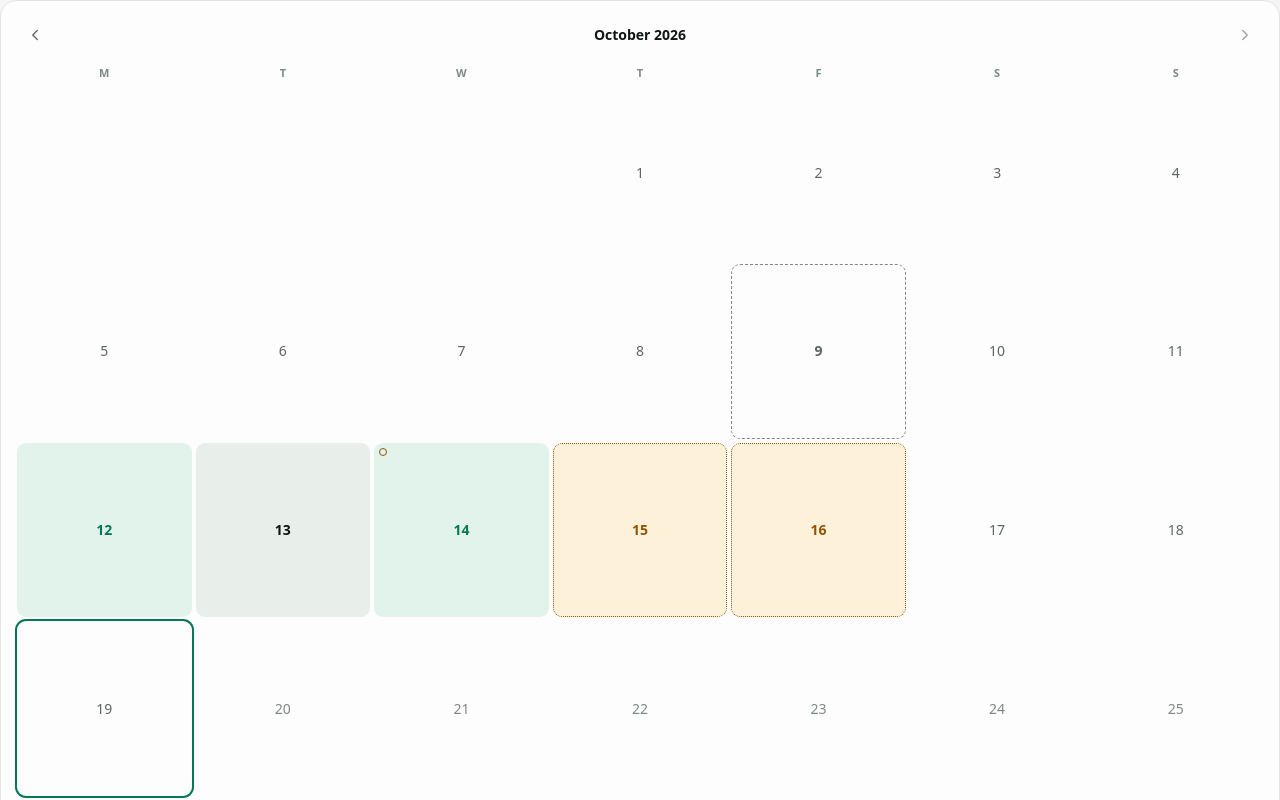
Scenario: MonthTab days subscription › keeps the one subscription while stepping within an income year
Click the button named "Previous month".
click(35, 35)  # box [17,17,53,53]
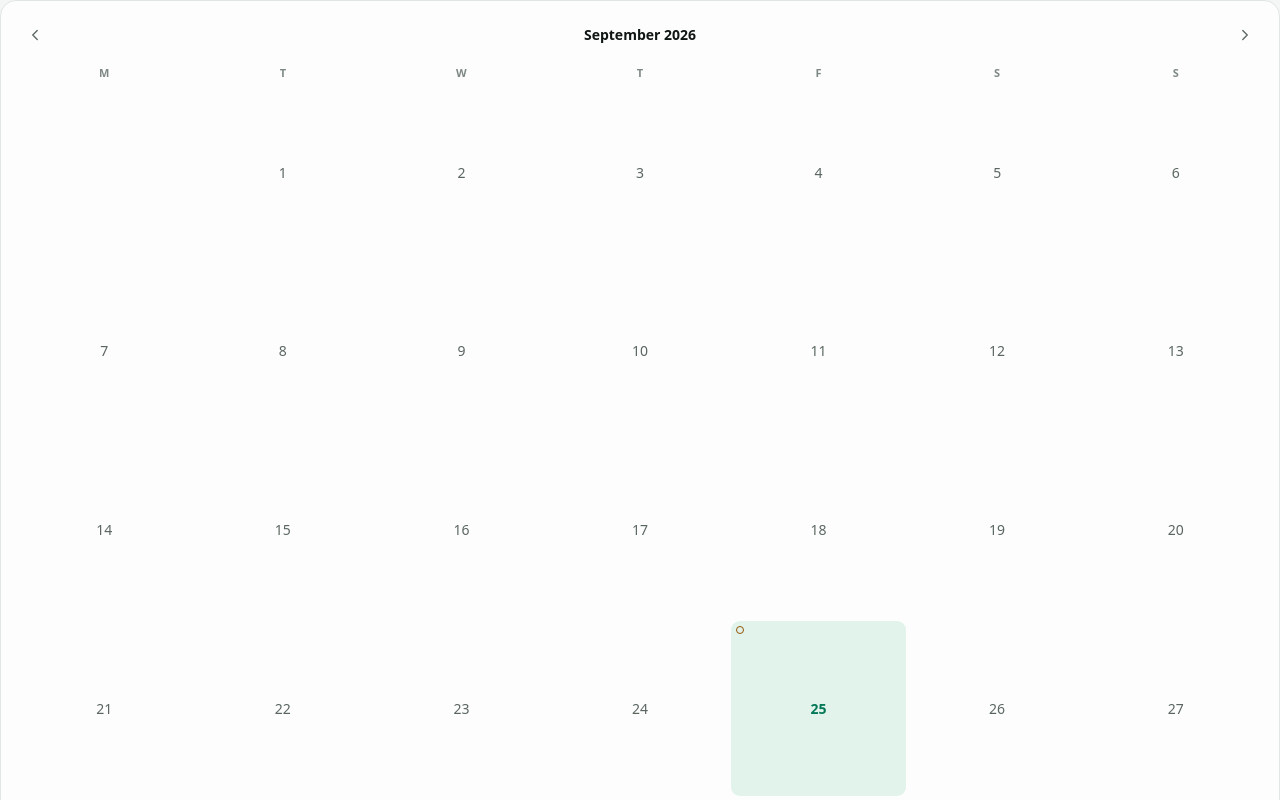
Click the button named "Previous month".
click(35, 35)  # box [17,17,53,53]
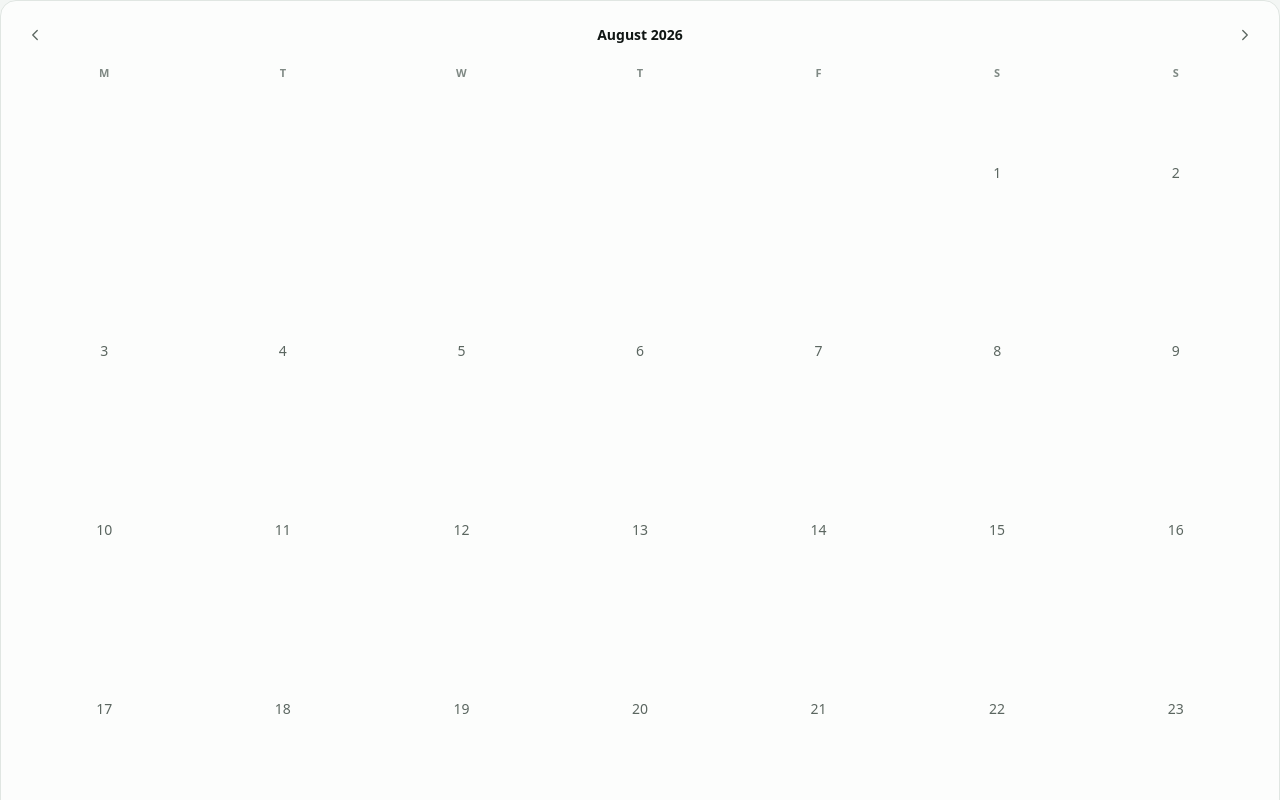
Click the button named "Previous month".
click(35, 35)  # box [17,17,53,53]
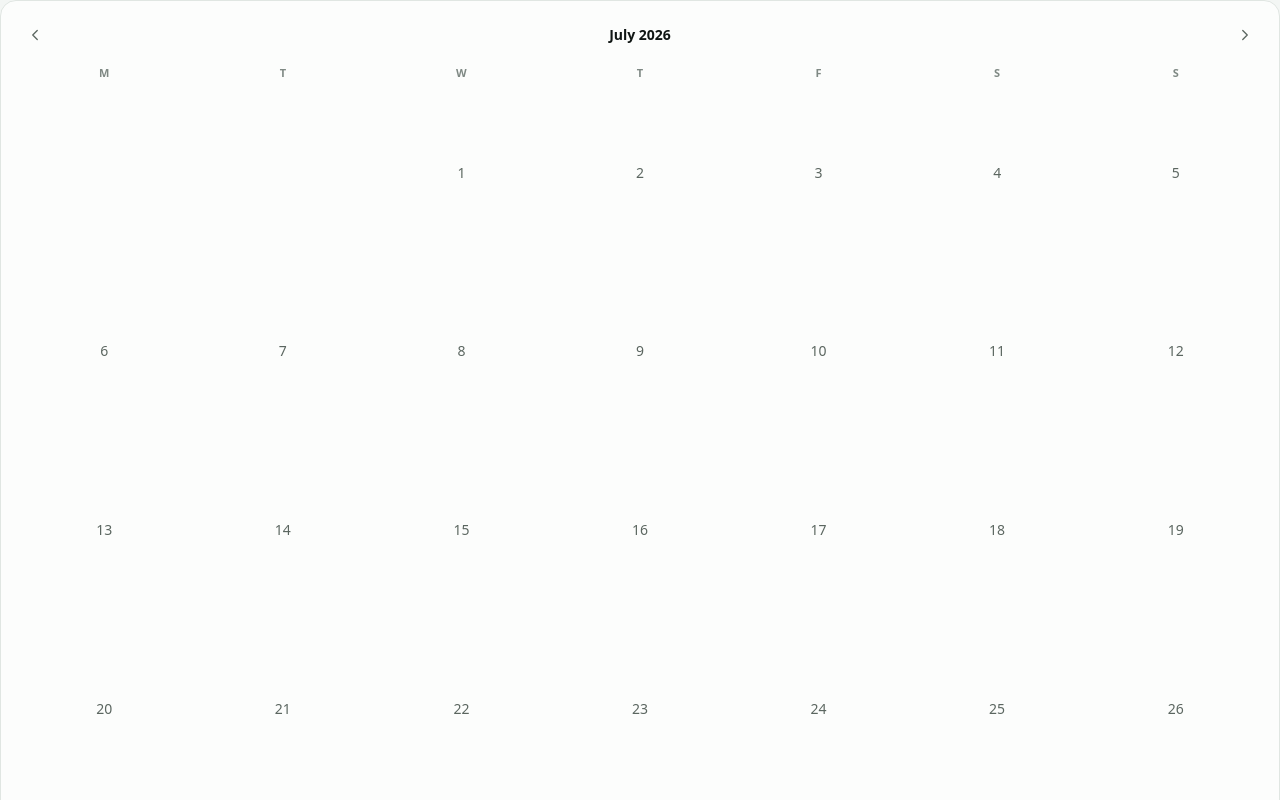
Check: the heading "July 2026" is shown, box [609,25,671,45]
